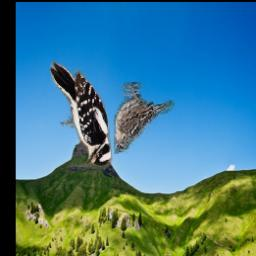Sparrow: (114, 83, 175, 155)
Woodpecker: (50, 59, 113, 166)
